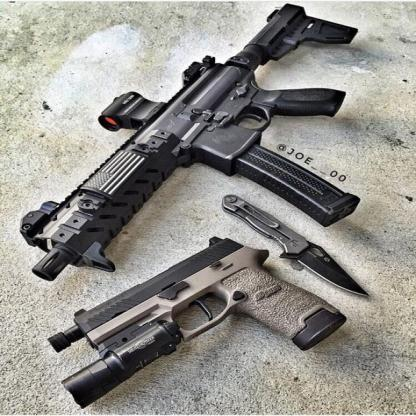Gun: (19, 0, 360, 282)
Knife: (218, 192, 372, 300)
Pistol: (46, 232, 352, 410)
